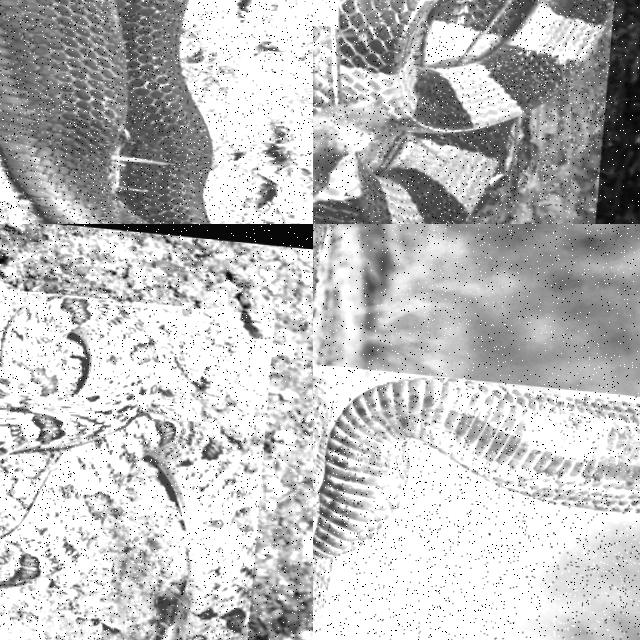Bungarus fasciatus: (313, 0, 613, 223)
Calloselasma rhodostoma: (0, 296, 253, 639)
Naja siamensis: (0, 0, 212, 223)
Ophiophagus hannah: (313, 376, 639, 637)
snake: (0, 296, 253, 639), (313, 376, 639, 637), (313, 0, 613, 223), (0, 0, 212, 223)
